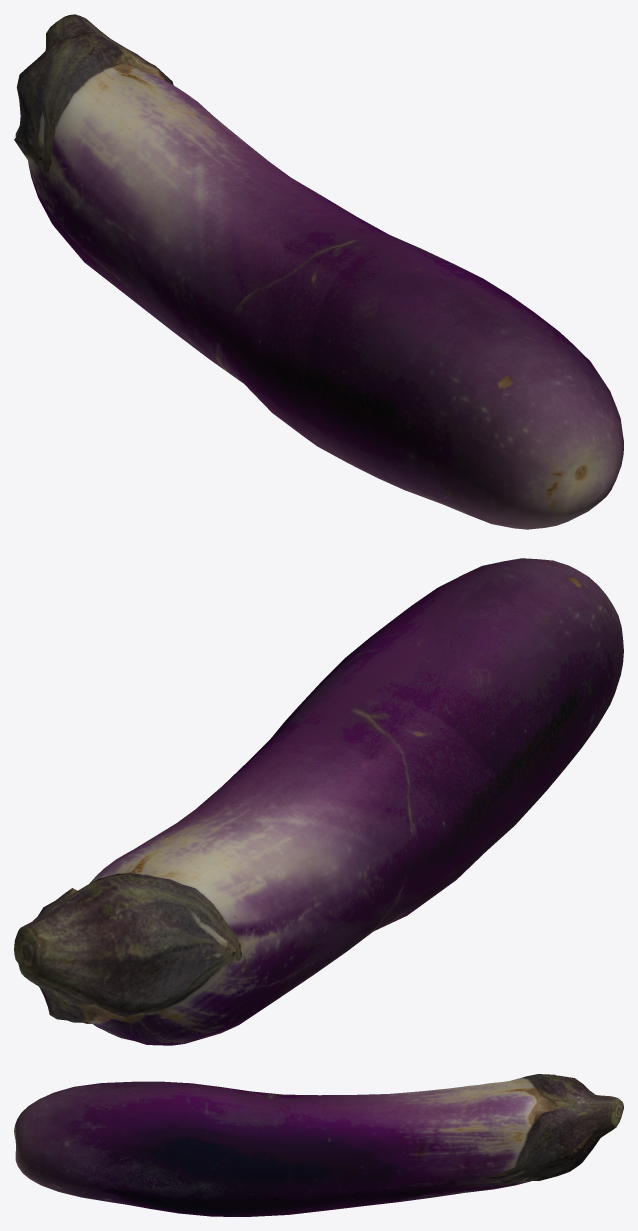
Rendered from eggplant_game_ready__2k_pbr.glb.
The picture shows the model from 3 angles, top to bottom: view 1: azimuth 30°, elevation 25°; view 2: azimuth 150°, elevation 25°; view 3: azimuth 270°, elevation 25°; orthographic projection. The views are drawn at different scales.
Visible parts, largest first — view 1: Eggplant; view 2: Eggplant; view 3: Eggplant.
Part boxes in pixels (bbox=[...]): Eggplant: bbox=[14, 14, 623, 529]; Eggplant: bbox=[14, 558, 623, 1045]; Eggplant: bbox=[14, 1074, 623, 1216].
Size of the model in its own units: 0.0526 by 0.0556 by 0.2365.
1 material, 1 textured.
